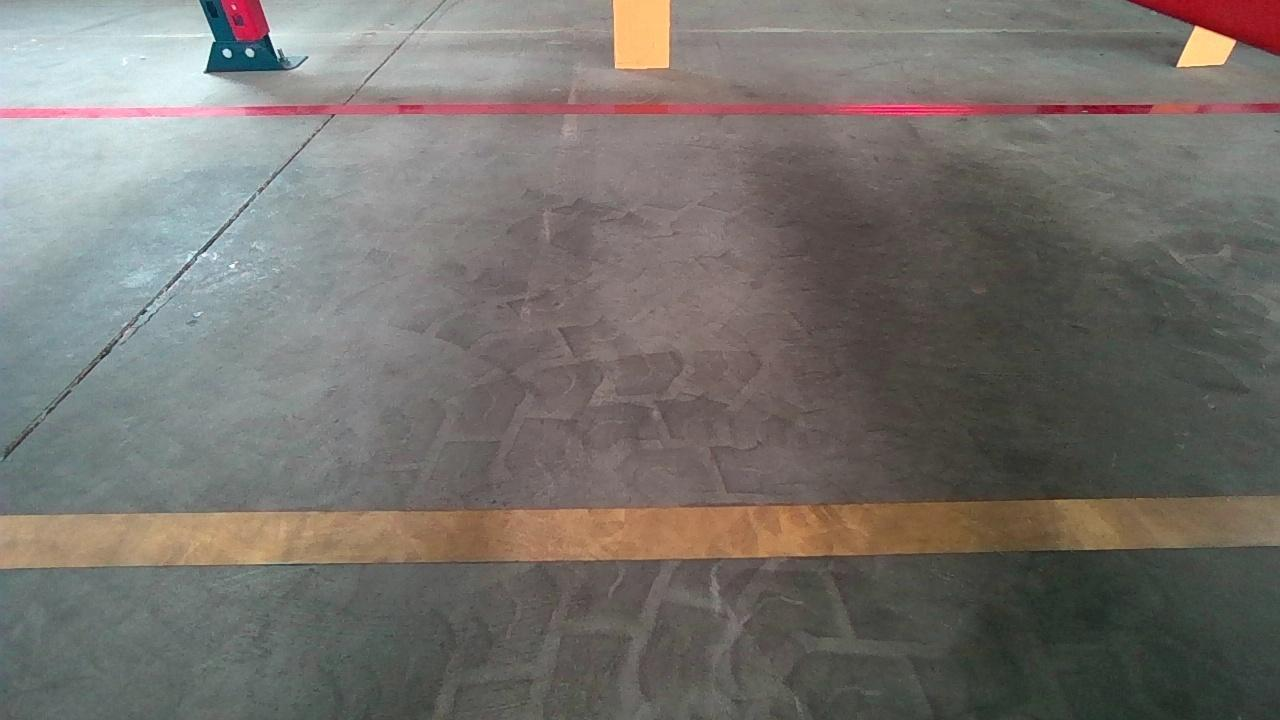red_line: (2, 96, 1275, 128)
yellow_line: (1, 493, 1278, 570)
